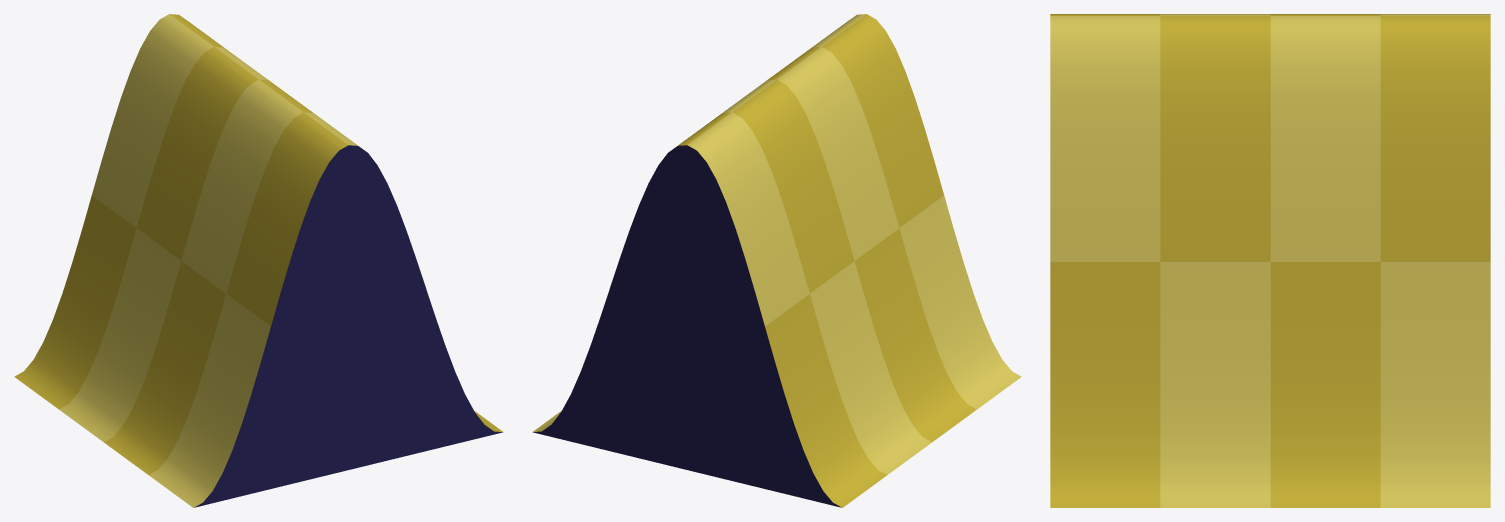
Rendered from arch_yellow.glb.
3 renders of one model, left to right at view 1: azimuth 30°, elevation 25°; view 2: azimuth 150°, elevation 25°; view 3: azimuth 270°, elevation 25°, orthographic. The views are drawn at different scales.
Visible parts, largest first — view 1: Body; view 2: Body; view 3: Body.
Boxes of the visible parts, left/top/right/bottom form: Body: left=14, top=14, right=503, bottom=507; Body: left=532, top=14, right=1021, bottom=507; Body: left=1050, top=14, right=1490, bottom=507.
Bounding box in the file's own units: 1 × 1 × 1.
